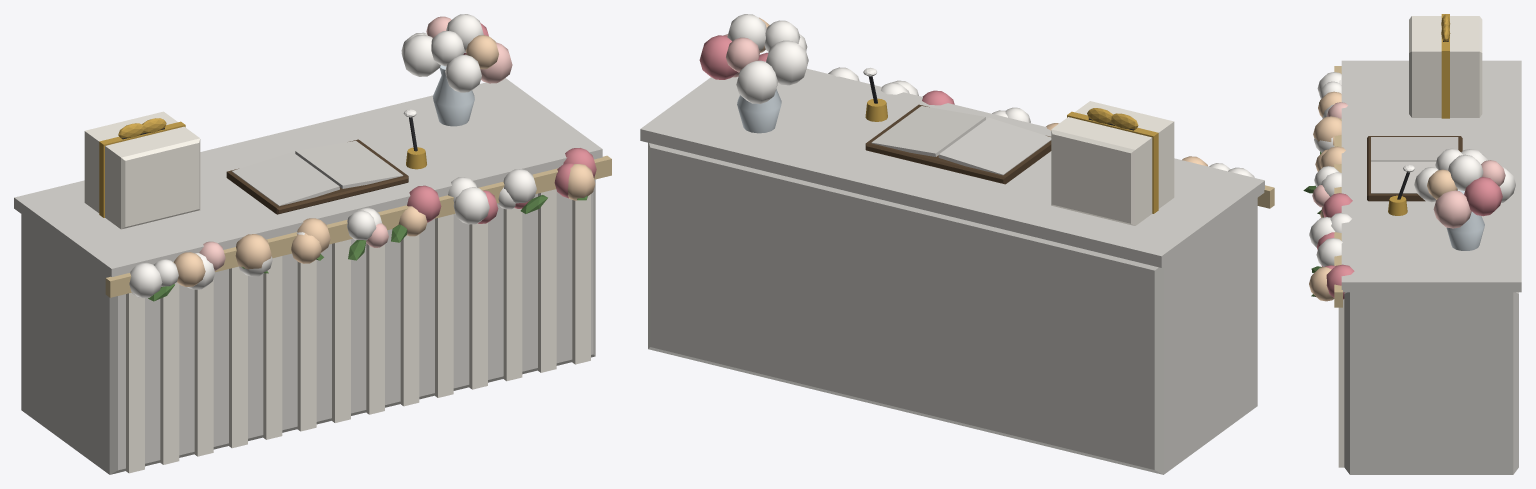
The model's file is desk.glb.
The picture shows the model from 3 angles, left to right: view 1: azimuth 30°, elevation 25°; view 2: azimuth 150°, elevation 25°; view 3: azimuth 270°, elevation 25°; orthographic projection. The views are drawn at different scales.
Parts seen in each view (by area): view 1: linen0, linen1, ivory68, runner16, ivory6, ivory3, ivory11, ivory13, ivory8, ivory4, ivory10, ivory5 (+26 smaller); view 2: linen0, linen1, ivory68, linen63, linen64, wood62, flowerWhite79, flowerWhite82, crystal74, flowerRose80, gold70, flowerWhite75 (+2 smaller); view 3: linen0, linen1, ivory68, linen63, linen64, ivory15, flowerRose80, flowerBlush83, crystal74, flowerWhite75, wood62, gold70 (+20 smaller).
Part boxes in pixels (x1=…): linen0: x1=21, y1=179, x2=595, y2=474; linen1: x1=14, y1=78, x2=602, y2=277; ivory68: x1=84, y1=111, x2=200, y2=229; runner16: x1=105, y1=155, x2=611, y2=297; ivory6: x1=263, y1=256, x2=282, y2=439; ivory3: x1=160, y1=282, x2=179, y2=464; ivory11: x1=435, y1=214, x2=453, y2=397; ivory13: x1=503, y1=208, x2=522, y2=381; ivory8: x1=332, y1=239, x2=350, y2=422; ivory4: x1=194, y1=279, x2=213, y2=456; ivory10: x1=400, y1=234, x2=419, y2=406; ivory5: x1=229, y1=266, x2=247, y2=448; linen0: x1=648, y1=142, x2=1257, y2=474; linen1: x1=640, y1=68, x2=1264, y2=267; ivory68: x1=1051, y1=101, x2=1174, y2=225; linen63: x1=938, y1=117, x2=1051, y2=175; linen64: x1=871, y1=106, x2=985, y2=156; wood62: x1=865, y1=104, x2=1051, y2=184; flowerWhite79: x1=766, y1=40, x2=808, y2=85; flowerWhite82: x1=736, y1=60, x2=778, y2=103; crystal74: x1=737, y1=61, x2=781, y2=133; flowerRose80: x1=699, y1=35, x2=737, y2=79; gold70: x1=1067, y1=111, x2=1158, y2=213; flowerWhite75: x1=727, y1=14, x2=766, y2=50; linen0: x1=1344, y1=292, x2=1518, y2=474; linen1: x1=1341, y1=60, x2=1521, y2=292; ivory68: x1=1409, y1=16, x2=1482, y2=117; linen63: x1=1371, y1=137, x2=1458, y2=161; linen64: x1=1371, y1=161, x2=1435, y2=193; ivory15: x1=1338, y1=299, x2=1344, y2=467; flowerRose80: x1=1464, y1=177, x2=1502, y2=216; flowerBlush83: x1=1433, y1=190, x2=1471, y2=228; crystal74: x1=1446, y1=189, x2=1484, y2=250; flowerWhite75: x1=1448, y1=154, x2=1483, y2=190; wood62: x1=1367, y1=136, x2=1462, y2=201; gold70: x1=1441, y1=14, x2=1449, y2=118.
Size of the model in its own units: 1.9 by 1.13 by 0.776.
